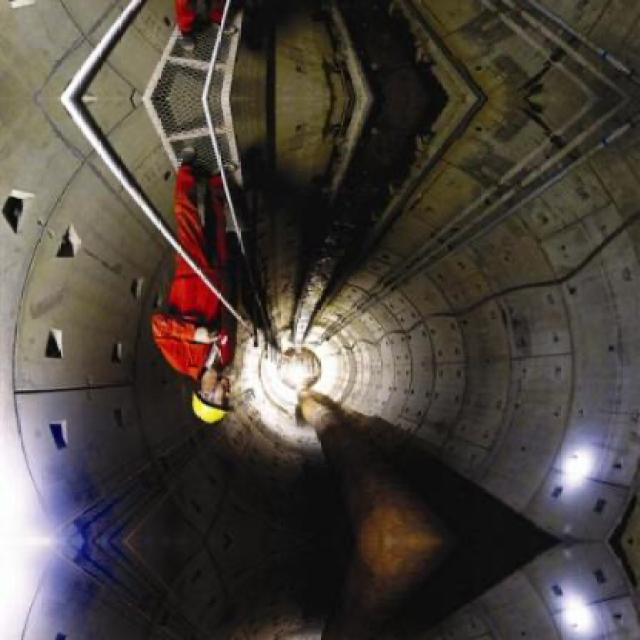con casco: (147, 334, 271, 433)
